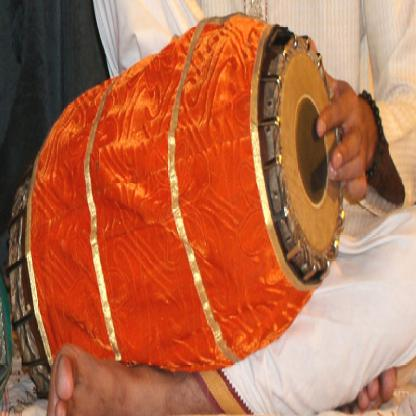Mridangam: (6, 1, 347, 402)
